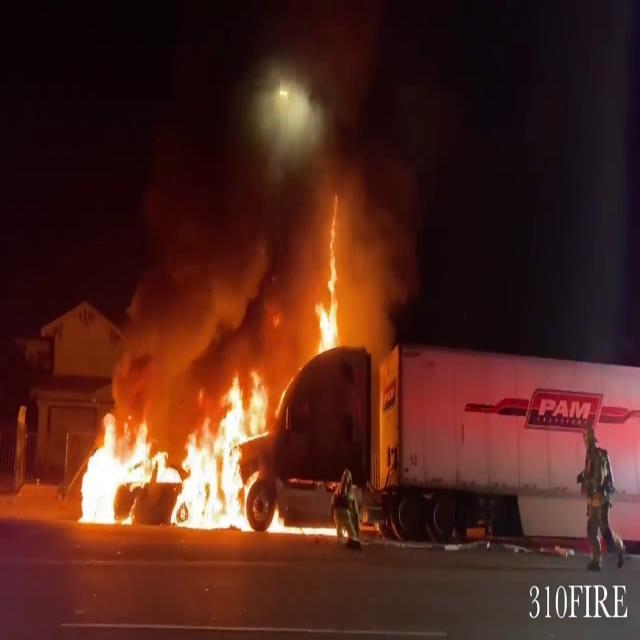Fire: (69, 366, 283, 534), (308, 219, 354, 366)
Smoke: (124, 120, 398, 372)
